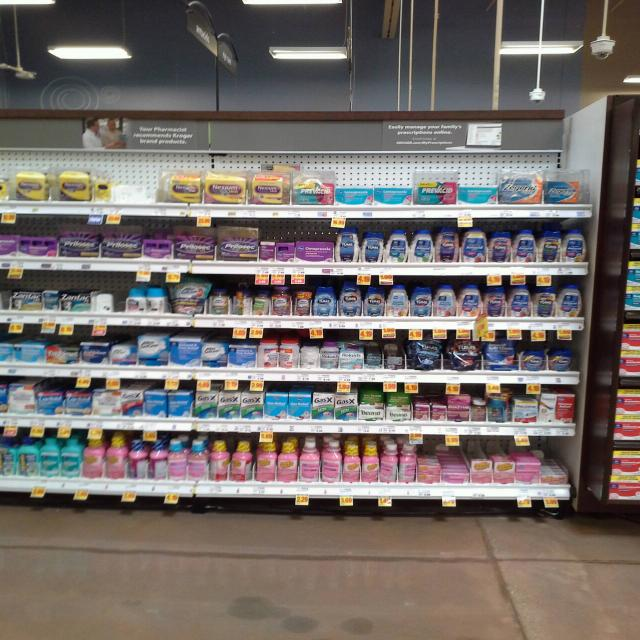unorganised: (129, 442, 166, 483), (383, 342, 405, 370), (363, 342, 383, 372), (144, 289, 167, 313), (302, 345, 318, 368)
